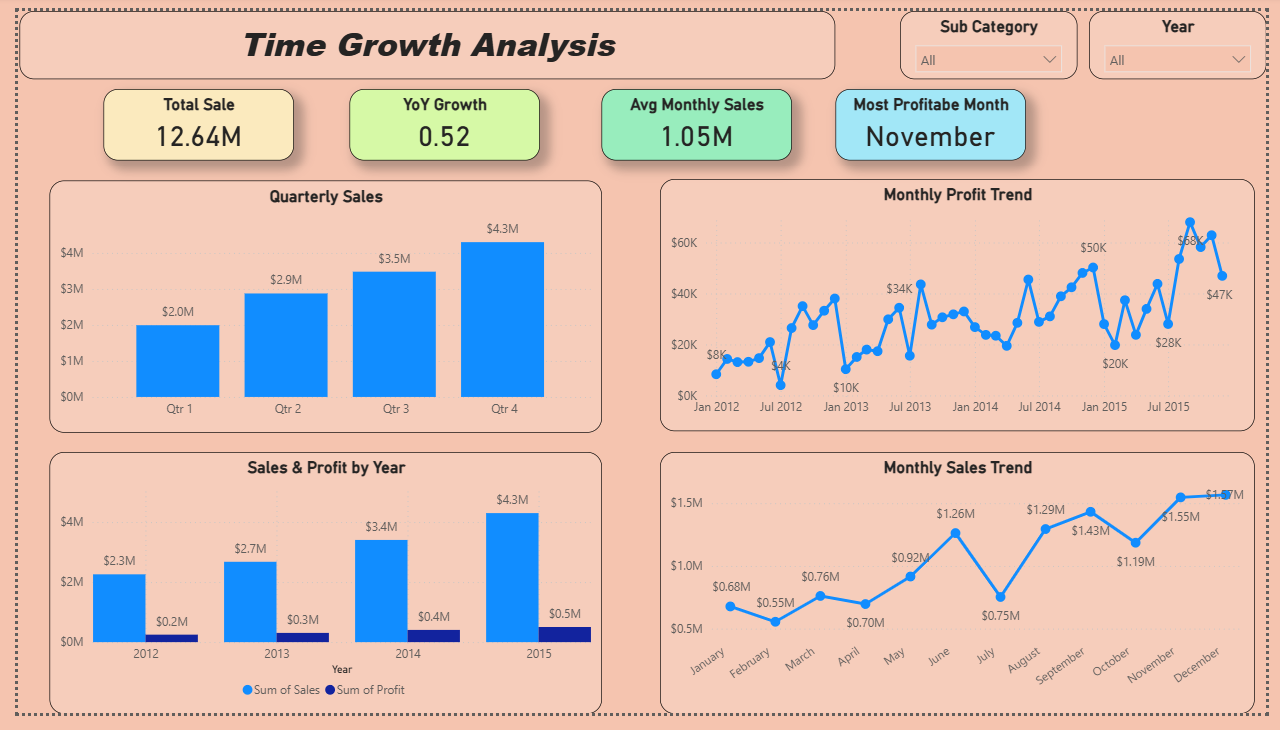

The page's visual inventory and layout, read from the dashboard file:
{"tool":"powerbi","page":{"name":"Time Growth Analysis","canvas":[1280,720],"ordinal":1},"visuals":[{"type":"card","title":"YoY Growth","fields":{"Values":["Orders.YoY Growth % (Ignore Other Filters)"]},"box":[340,80,195,73.3],"z":0},{"type":"card","title":"Avg Monthly Sales","fields":{"Values":["Orders.Avg Monthly Sales"]},"box":[598.3,80,195,73.3],"z":1000},{"type":"card","title":"Most Profitabe Month","fields":{"Values":["Orders.Best Profitable Month"]},"box":[838.3,80,195,73.3],"z":2000},{"type":"clusteredColumnChart","title":"Sales & Profit by Year","fields":{"Category":["Orders.Order Date.Variation.Date Hierarchy.Year"],"Y":["Sum(Orders.Sales)","Sum(Orders.Profit)"]},"box":[31.7,451.7,566.7,268.3],"z":3000},{"type":"lineChart","title":"Monthly Sales Trend ","fields":{"Y":["Sum(Orders.Sales)"],"Category":["Orders.Order Date.Variation.Date Hierarchy.Month"]},"box":[658.3,451.7,610,268.3],"z":4000},{"type":"clusteredColumnChart","title":"Quarterly Sales","fields":{"Category":["Orders.Order Date.Variation.Date Hierarchy.Quarter"],"Y":["Sum(Orders.Sales)"]},"box":[31.7,173.3,566.7,258.3],"z":5000},{"type":"lineChart","title":"Monthly Profit Trend ","fields":{"Y":["Sum(Orders.Profit)"],"Category":["Orders.Order Date.Variation.Date Hierarchy.Year","Orders.Order Date.Variation.Date Hierarchy.Month"]},"box":[658.3,171.7,610,258.3],"z":6000},{"type":"textbox","box":[1.7,0,836.7,70],"z":7000},{"type":"slicer","title":" Year","fields":{"Values":["Orders.Order Date.Variation.Date Hierarchy.Year"]},"box":[1098.3,0,181.7,70],"z":8000},{"type":"card","title":"Total Sale","fields":{"Values":["Orders.Total Sales"]},"box":[88.3,80,195,73.3],"z":9000},{"type":"slicer","title":"Sub Category","fields":{"Values":["Orders.Sub-Category"]},"box":[905,0,181.7,70],"z":9001}]}

Visuals, with their boxes in screenshot pixels (x1, y1, x2, y2), scaled from the page's 1280x720 canvas onto the 1280x730 screenshot:
"YoY Growth" card: pyautogui.locateOnScreen(340, 81, 535, 155)
"Avg Monthly Sales" card: pyautogui.locateOnScreen(598, 81, 793, 155)
"Most Profitabe Month" card: pyautogui.locateOnScreen(838, 81, 1033, 155)
"Sales & Profit by Year" clusteredColumnChart: pyautogui.locateOnScreen(32, 458, 598, 729)
"Monthly Sales Trend " lineChart: pyautogui.locateOnScreen(658, 458, 1268, 729)
"Quarterly Sales" clusteredColumnChart: pyautogui.locateOnScreen(32, 176, 598, 438)
"Monthly Profit Trend " lineChart: pyautogui.locateOnScreen(658, 174, 1268, 436)
textbox: pyautogui.locateOnScreen(2, 0, 838, 71)
" Year" slicer: pyautogui.locateOnScreen(1098, 0, 1279, 71)
"Total Sale" card: pyautogui.locateOnScreen(88, 81, 283, 155)
"Sub Category" slicer: pyautogui.locateOnScreen(905, 0, 1087, 71)
